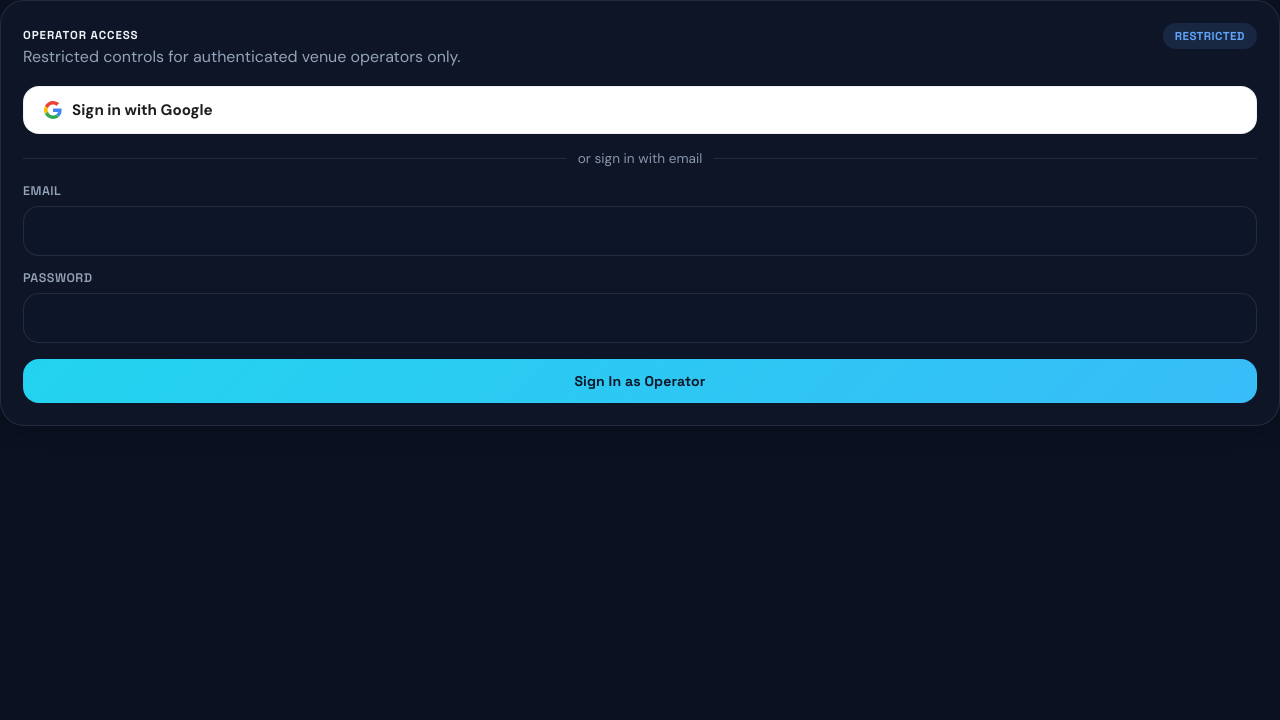
Test: OperatorExperience with Firebase configured › shows operator access and surfaces sign-in errors
Check: the element "Operator Access" is shown, box [0,0,1279,426]
In the field labelled "Email": (640, 231) [23,206,1257,256], type " operator@example.com "
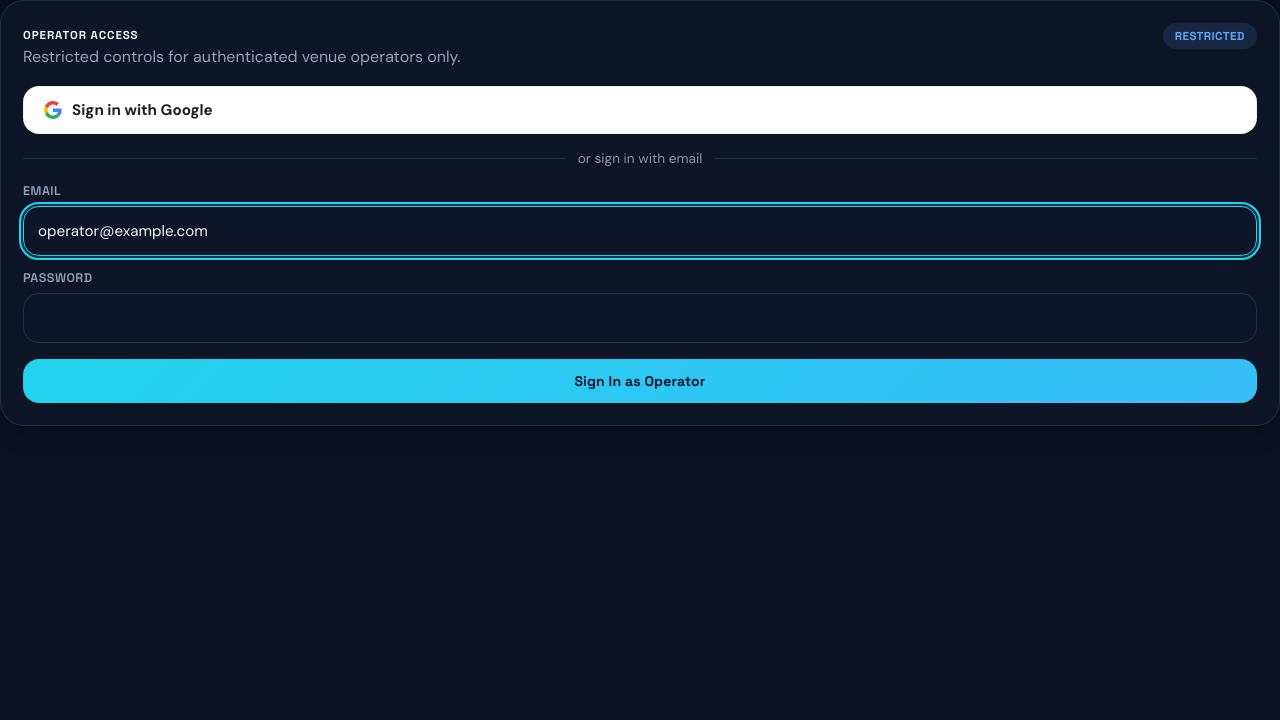
In the password field labelled "Password": (640, 318) [23,293,1257,343], type "secret"
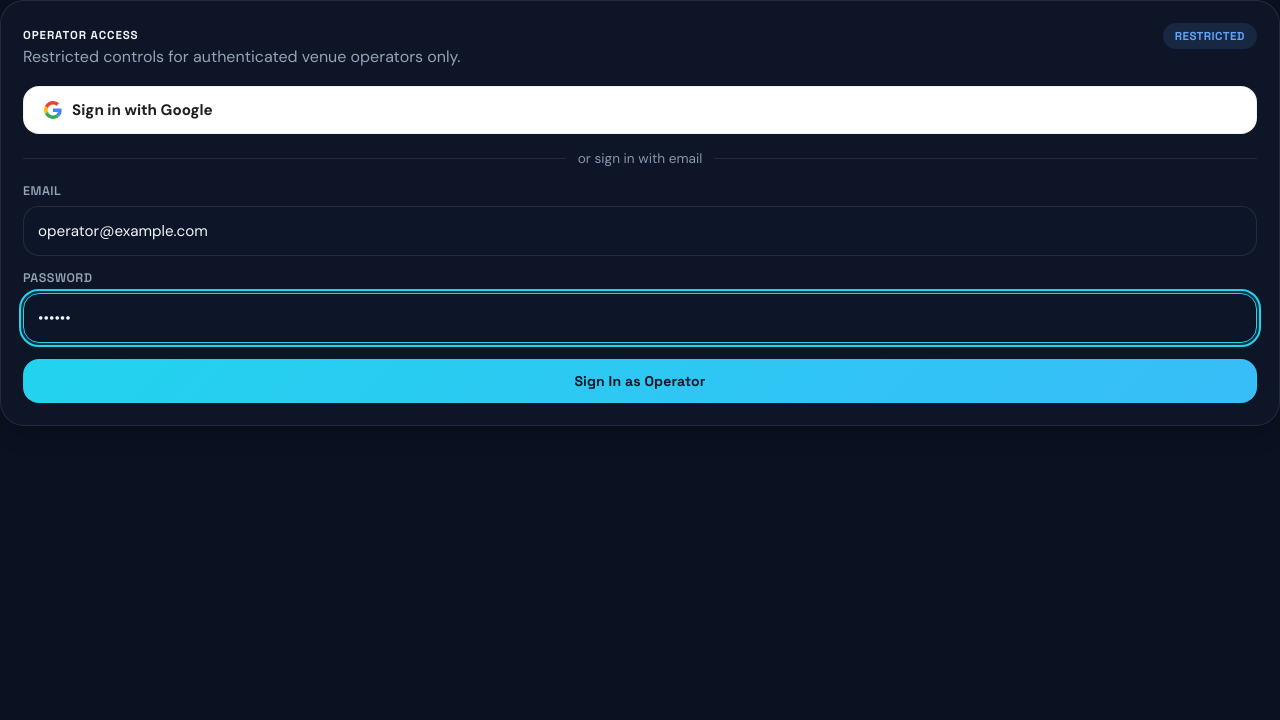
Click the button "Sign In as Operator": (640, 381) [23,359,1257,403]
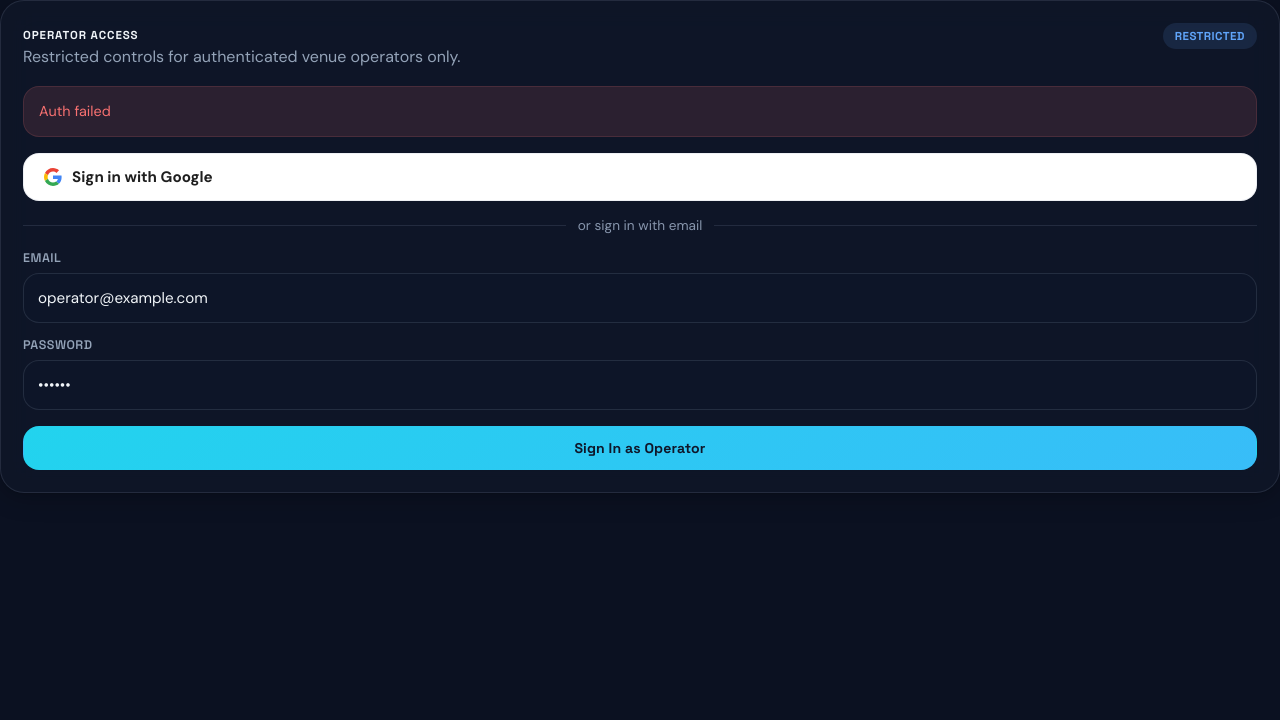
Check: the text "Auth failed" is shown, box [23,86,1257,137]
Click the button "Sign in with Google": (142, 177) [23,153,1257,201]
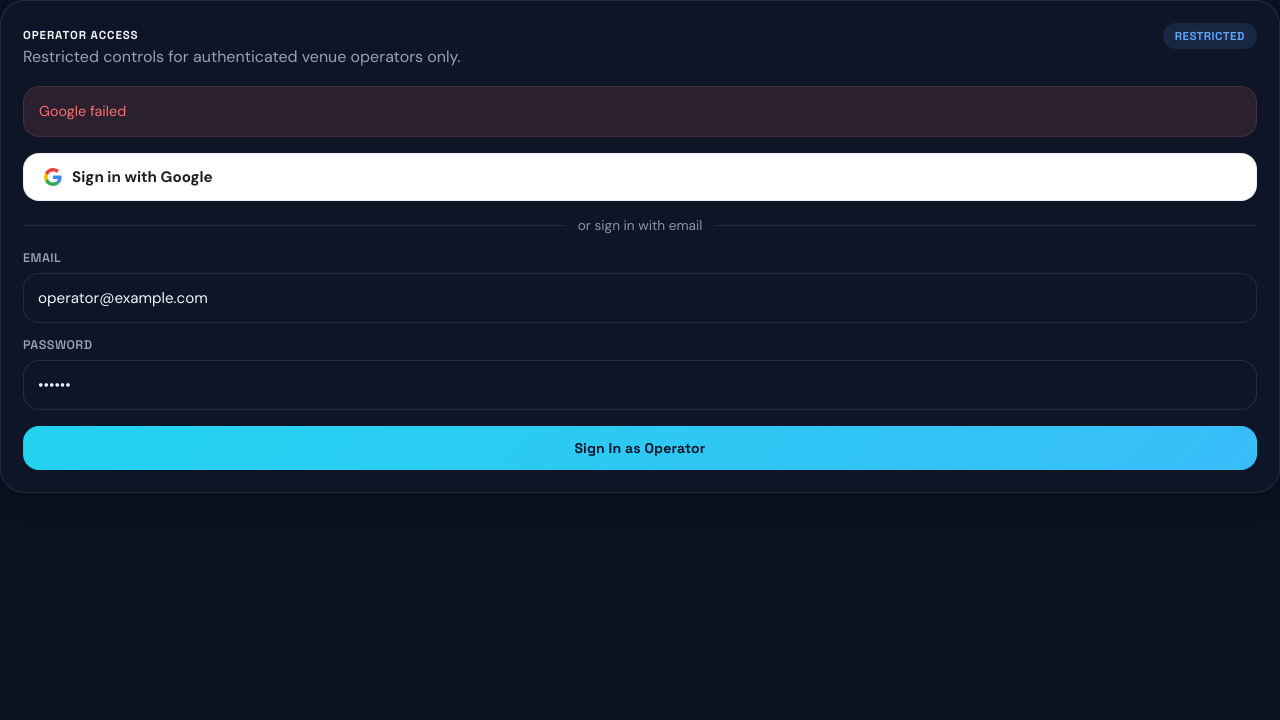
Check: the text "Google failed" is shown, box [23,86,1257,137]
